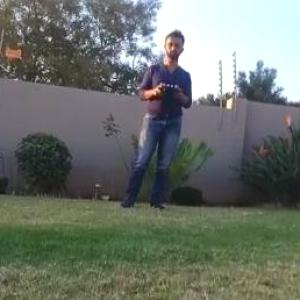follow: (115, 20, 198, 212)
